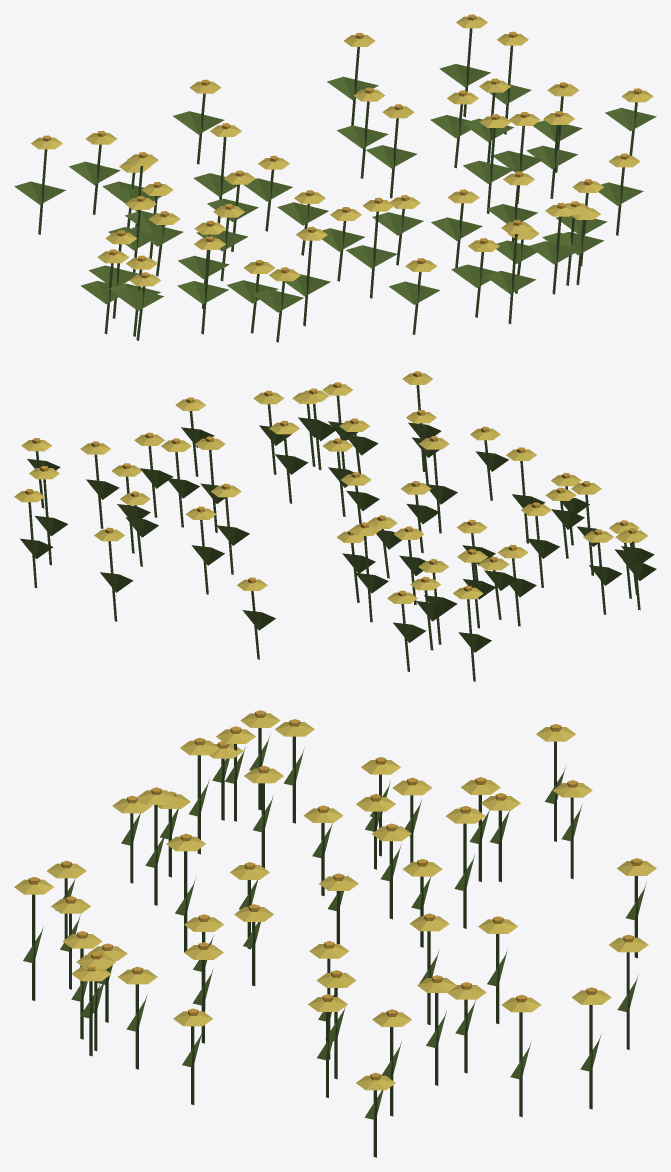
File: meadow_buttercups.glb
3 views of the same model, one above another, from view 1: azimuth 30°, elevation 25°; view 2: azimuth 150°, elevation 25°; view 3: azimuth 270°, elevation 25° (orthographic). The views are drawn at different scales.
Visible parts, largest first — view 1: meadow_buttercups_body; view 2: meadow_buttercups_body; view 3: meadow_buttercups_body.
Part boxes in pixels (<box>): meadow_buttercups_body: <box>14,14,656,342</box>; meadow_buttercups_body: <box>14,371,656,681</box>; meadow_buttercups_body: <box>14,710,656,1157</box>.
Bounding box in the file's own units: 7.02 × 1.1 × 5.1.
